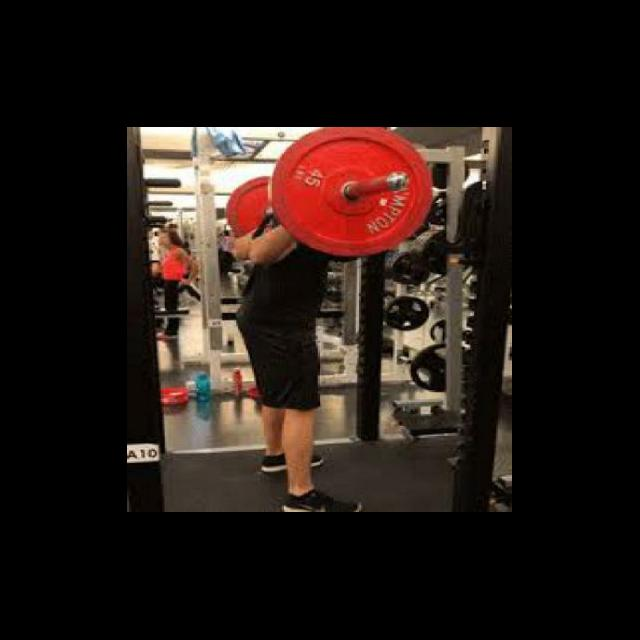barbell: (268, 127, 436, 259)
